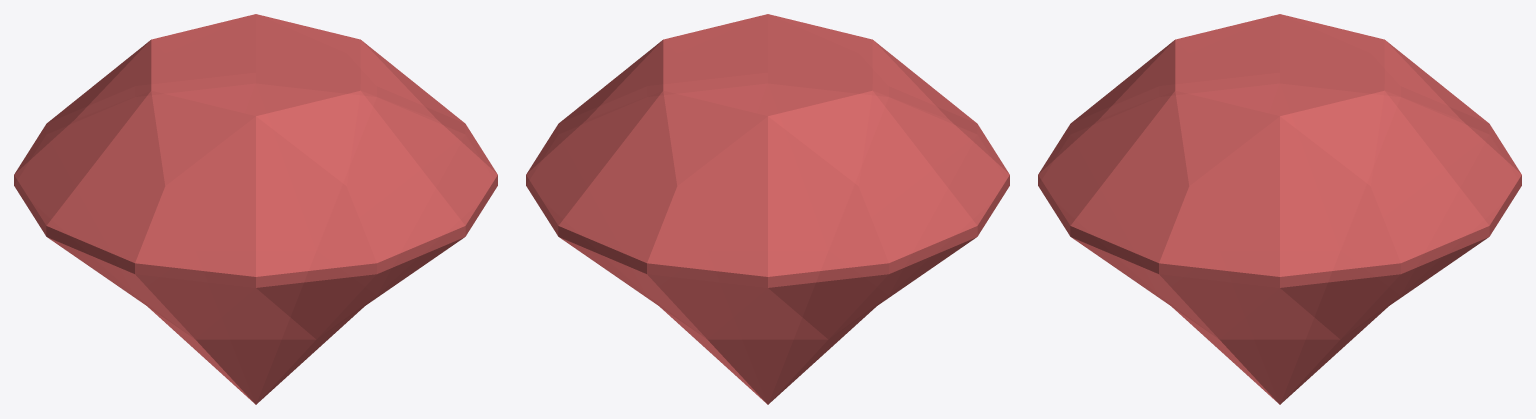
The model's file is ruby.dae.
The picture shows the model from 3 angles, left to right: view 1: azimuth 30°, elevation 25°; view 2: azimuth 150°, elevation 25°; view 3: azimuth 270°, elevation 25°; orthographic projection.
Parts seen in each view (by area): view 1: ruby; view 2: ruby; view 3: ruby.
Part boxes in pixels (left/top/right/bottom): ruby: left=14, top=14, right=497, bottom=404; ruby: left=526, top=14, right=1009, bottom=404; ruby: left=1038, top=14, right=1521, bottom=404.
Size of the model in its own units: 2.58 by 2.58 by 2.
